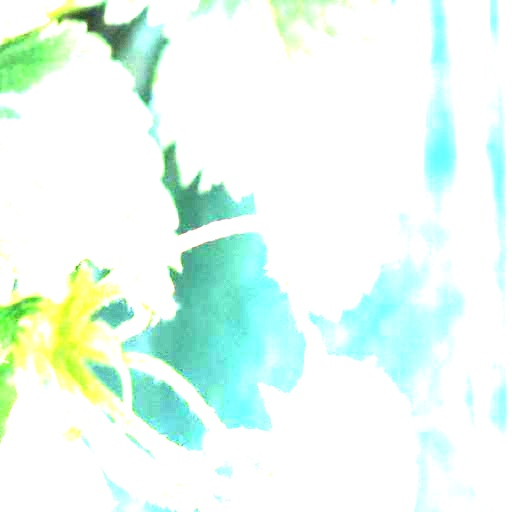Gray Mold: (222, 105, 398, 369)
